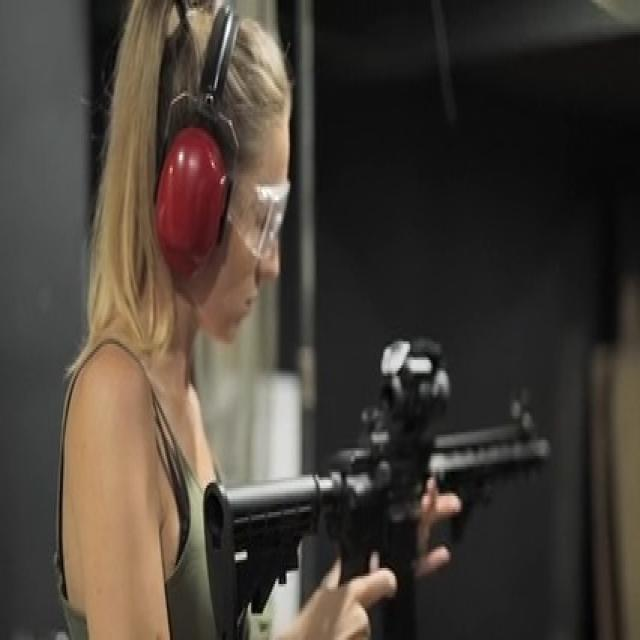Gun_Holder: (179, 355, 593, 640)
Person: (56, 0, 395, 640)
